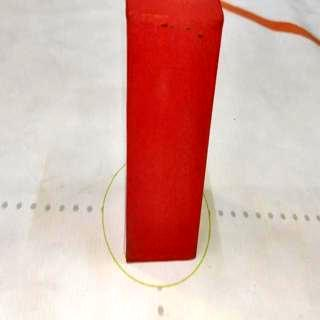redbox: (122, 0, 225, 263)
